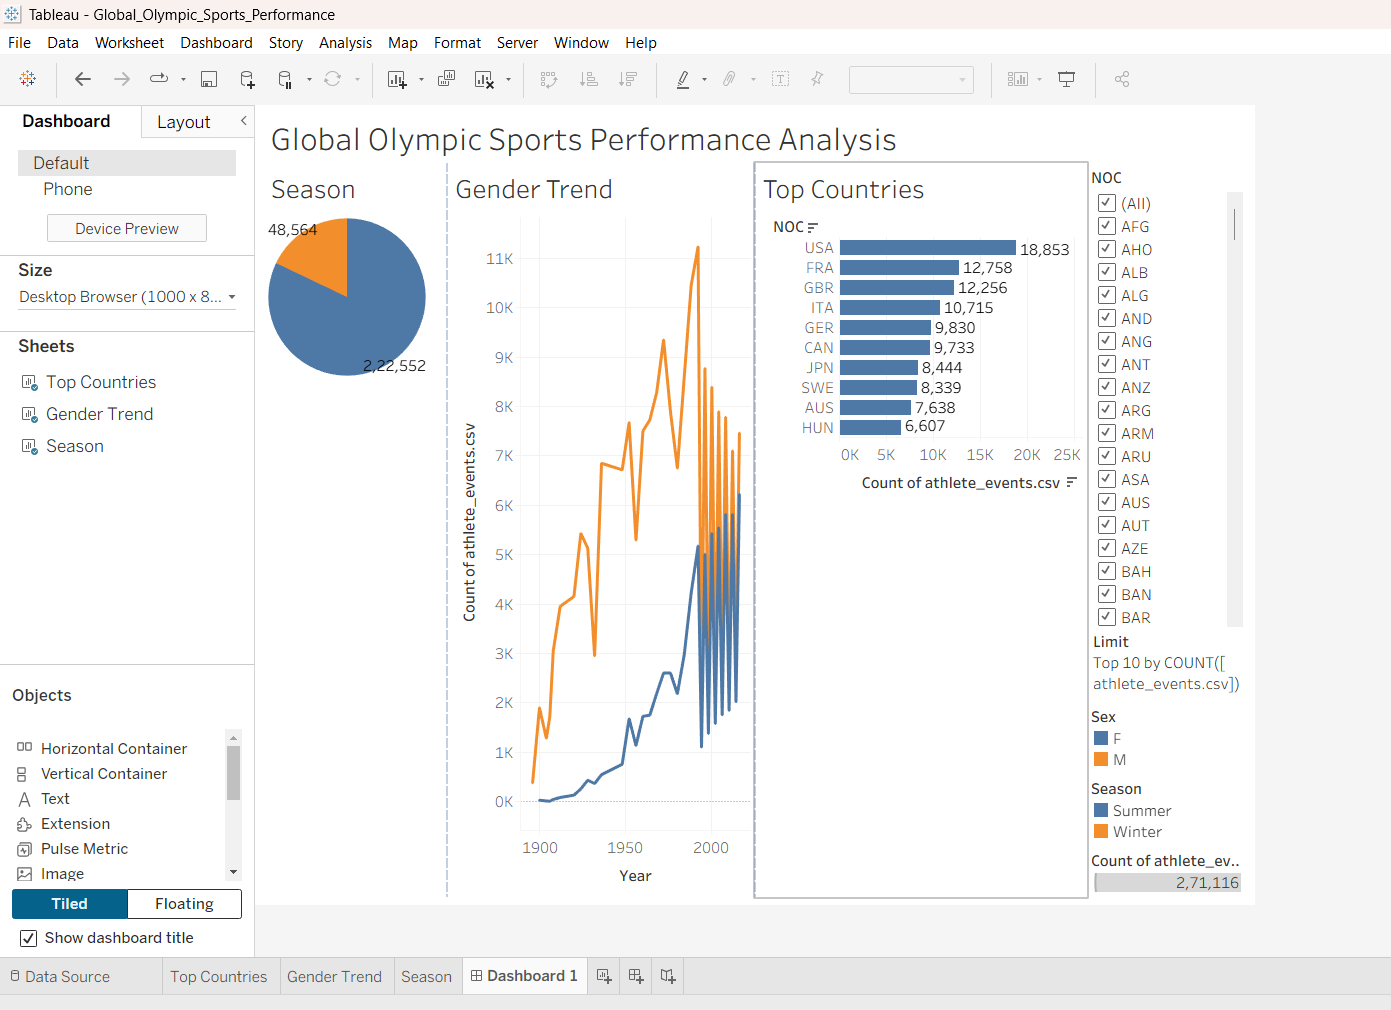

The dashboard page shown, as its layout file describes it:
{"tool":"tableau","page":{"name":"Dashboard 1","canvas":[1000,800],"ordinal":0},"visuals":[{"type":"title","box":[8,8,984,50]},{"type":"worksheet","title":"Season","mark":"Pie","box":[8,58,184,734]},{"type":"worksheet","title":"Gender Trend","mark":"Automatic","rows":["athlete_events.csv_DD02FFFF02EB49C8AA4C0DE98788926C"],"cols":["Year"],"box":[192,58,308,734]},{"type":"worksheet","title":"Top Countries","mark":"Automatic","rows":["NOC"],"cols":["athlete_events.csv_DD02FFFF02EB49C8AA4C0DE98788926C"],"box":[500,58,332,734]},{"type":"filter","title":"Top Countries","param":"[federated.1etc37v0ckiaiv16efu081mpez22].[none:NOC:nk]","box":[832,58,160,539]},{"type":"legend","title":"Gender Trend","param":"[federated.1etc37v0ckiaiv16efu081mpez22].[none:Sex:nk]","box":[832,597,160,72]},{"type":"legend","title":"Season","param":"[federated.1etc37v0ckiaiv16efu081mpez22].[none:Season:nk]","box":[832,669,160,72]},{"type":"legend","title":"Season","param":"[federated.1etc37v0ckiaiv16efu081mpez22].[__tableau_internal_object_id__].[cnt:a","box":[832,741,160,51]}]}

Visuals, with their boxes on the page's 1000x800 design canvas (x1, y1, x2, y2). These are canvas units, not pixel positions in the 1391x1010 screenshot, which may show the page scaled, cropped or inside an application window:
title: bbox(8, 8, 992, 58)
"Season" worksheet (Pie marks): bbox(8, 58, 192, 792)
"Gender Trend" worksheet: bbox(192, 58, 500, 792)
"Top Countries" worksheet: bbox(500, 58, 832, 792)
"Top Countries" filter: bbox(832, 58, 992, 597)
"Gender Trend" legend: bbox(832, 597, 992, 669)
"Season" legend: bbox(832, 669, 992, 741)
"Season" legend: bbox(832, 741, 992, 792)
